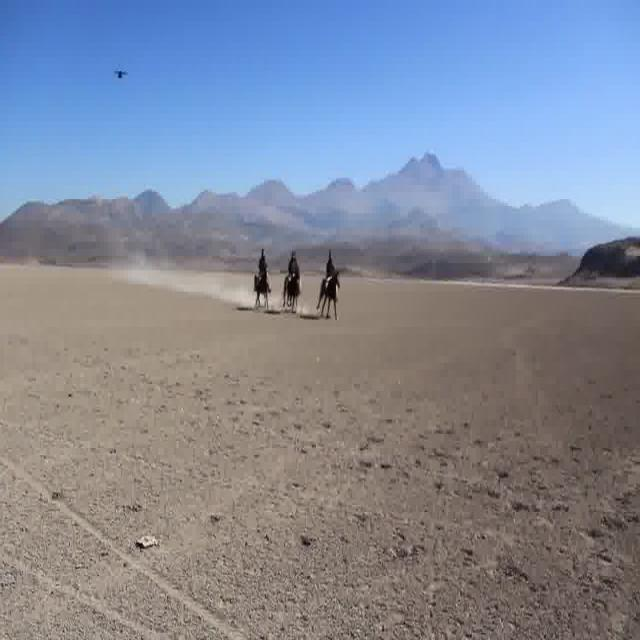drones: (110, 60, 132, 90)
